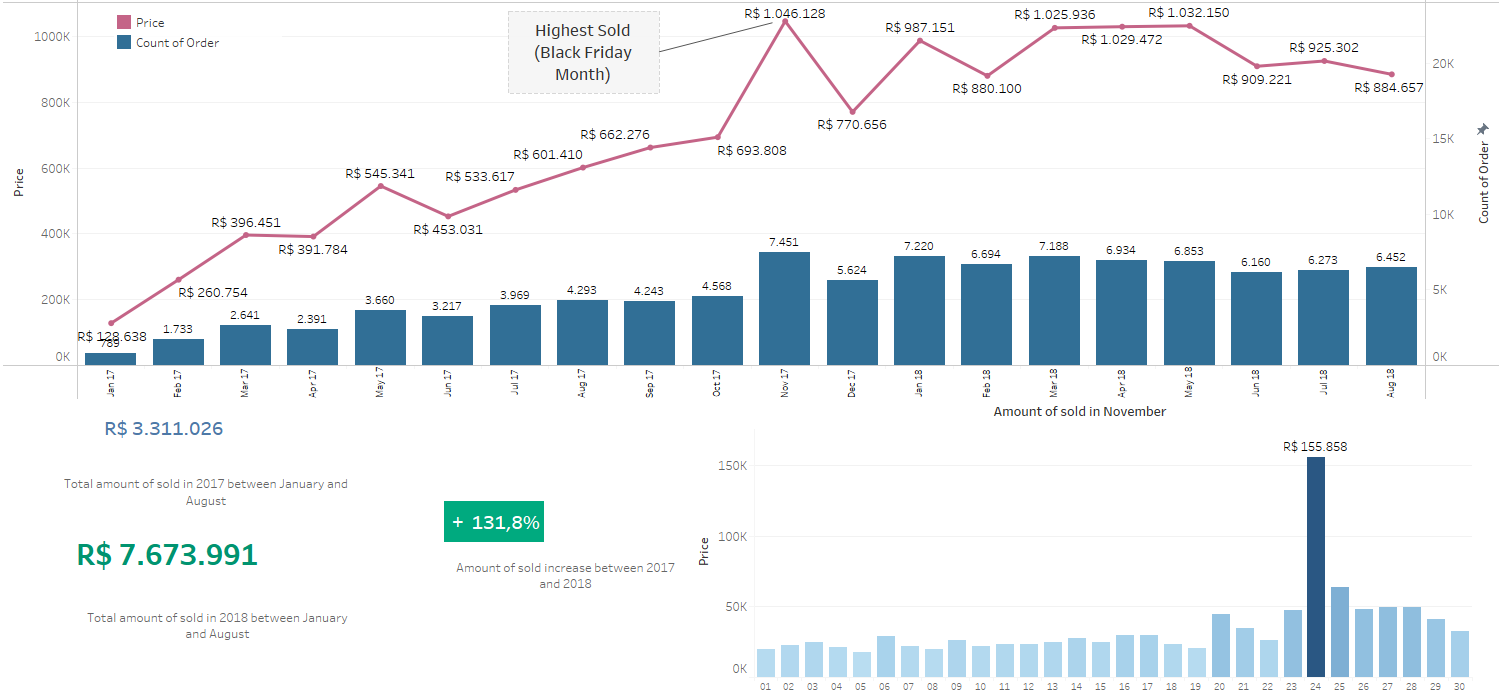

The dashboard page shown, as its layout file describes it:
{"tool":"tableau","page":{"name":"SOLD DASH","canvas":[1500,700],"ordinal":2},"visuals":[{"type":"legend","title":"SOLD","param":"[federated.0r3hb1c0vriubc109ropf0oxoq2d].[:Measure Names]","box":[114,12,168,62]},{"type":"worksheet","title":"Sheet 23","mark":"Bar","rows":["price"],"cols":["order_purchase_timestamp"],"box":[688,396,784,301]},{"type":"worksheet","title":"sold 2017","mark":"Automatic","box":[88,415,500,235]},{"type":"text","box":[49,461,314,62]},{"type":"worksheet","title":"sold 2018","mark":"Automatic","box":[62,534,481,144]},{"type":"text","box":[448,538,235,75]},{"type":"text","box":[80,596,275,59]}]}

Visuals, with their boxes in screenshot pixels (x1, y1, x2, y2), scaled from the page's 1500x700 canvas onto the 1500x700 screenshot:
"SOLD" legend: bbox=(114, 12, 282, 74)
"Sheet 23" worksheet (Bar marks): bbox=(688, 396, 1472, 697)
"sold 2017" worksheet: bbox=(88, 415, 588, 650)
text: bbox=(49, 461, 363, 523)
"sold 2018" worksheet: bbox=(62, 534, 543, 678)
text: bbox=(448, 538, 683, 613)
text: bbox=(80, 596, 355, 655)
